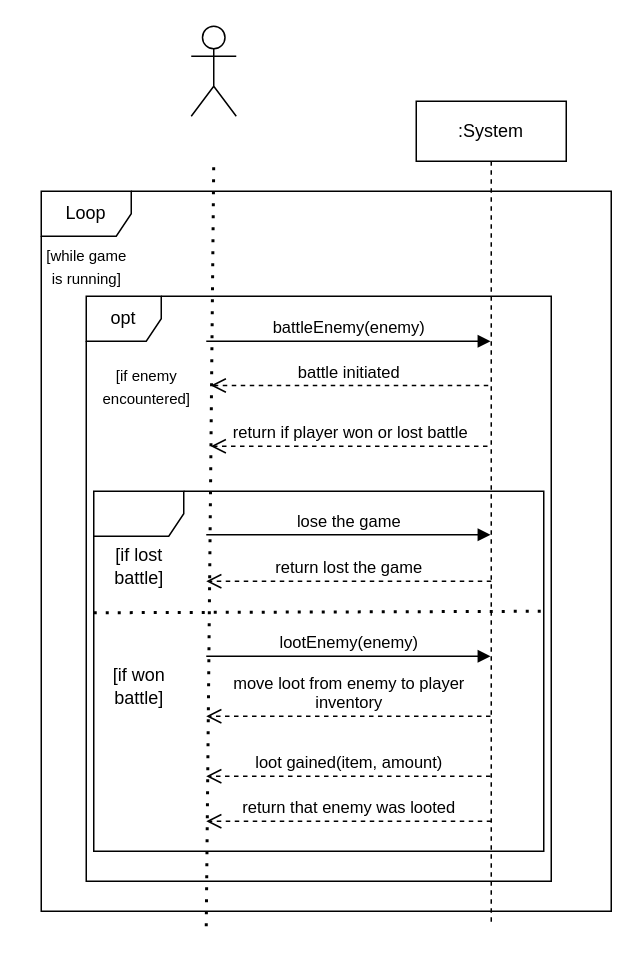
The diagram is 638 pixels wide and 956 high, and some of its shapes have lost their labels. The shapes that lost their labels are listed below. From the top down, each one's box as (x1, y1, x2, y2) in pixels, then its label:
(190, 25, 236, 116): :Player
(92, 490, 544, 851): alt
